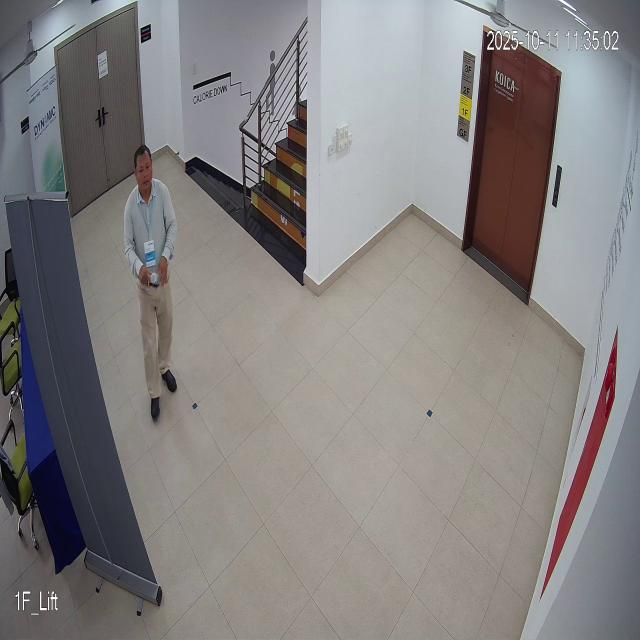face: (128, 144, 160, 198)
